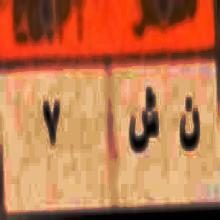7: (39, 94, 65, 152)
noon: (177, 98, 202, 155)
sheen: (128, 85, 161, 154)
